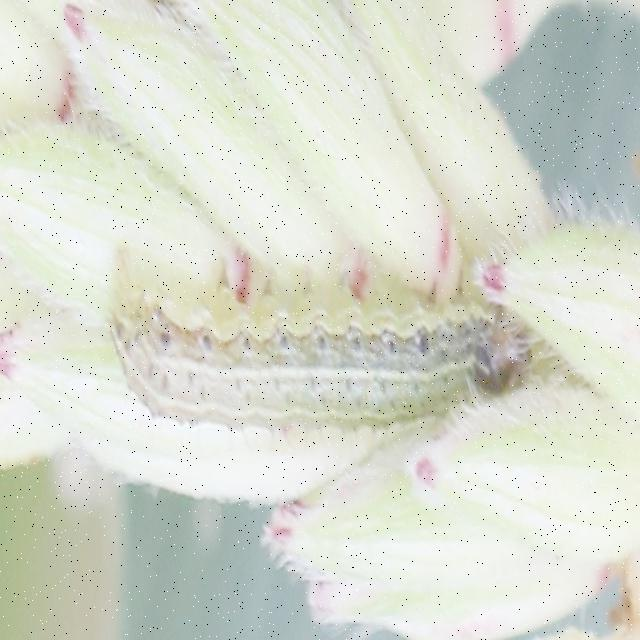worm: (96, 281, 524, 425)
